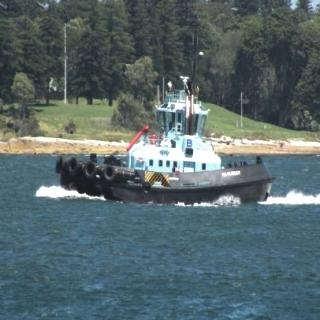Tug Boat: (40, 61, 271, 200)
